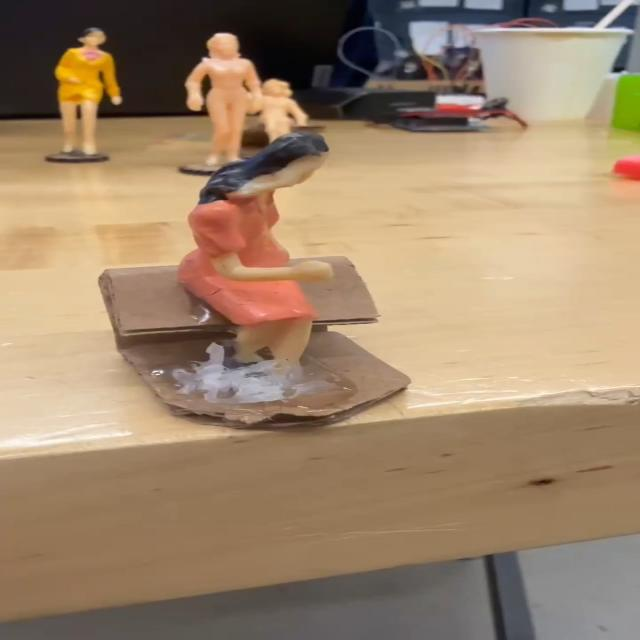Authorized: (176, 128, 342, 392)
